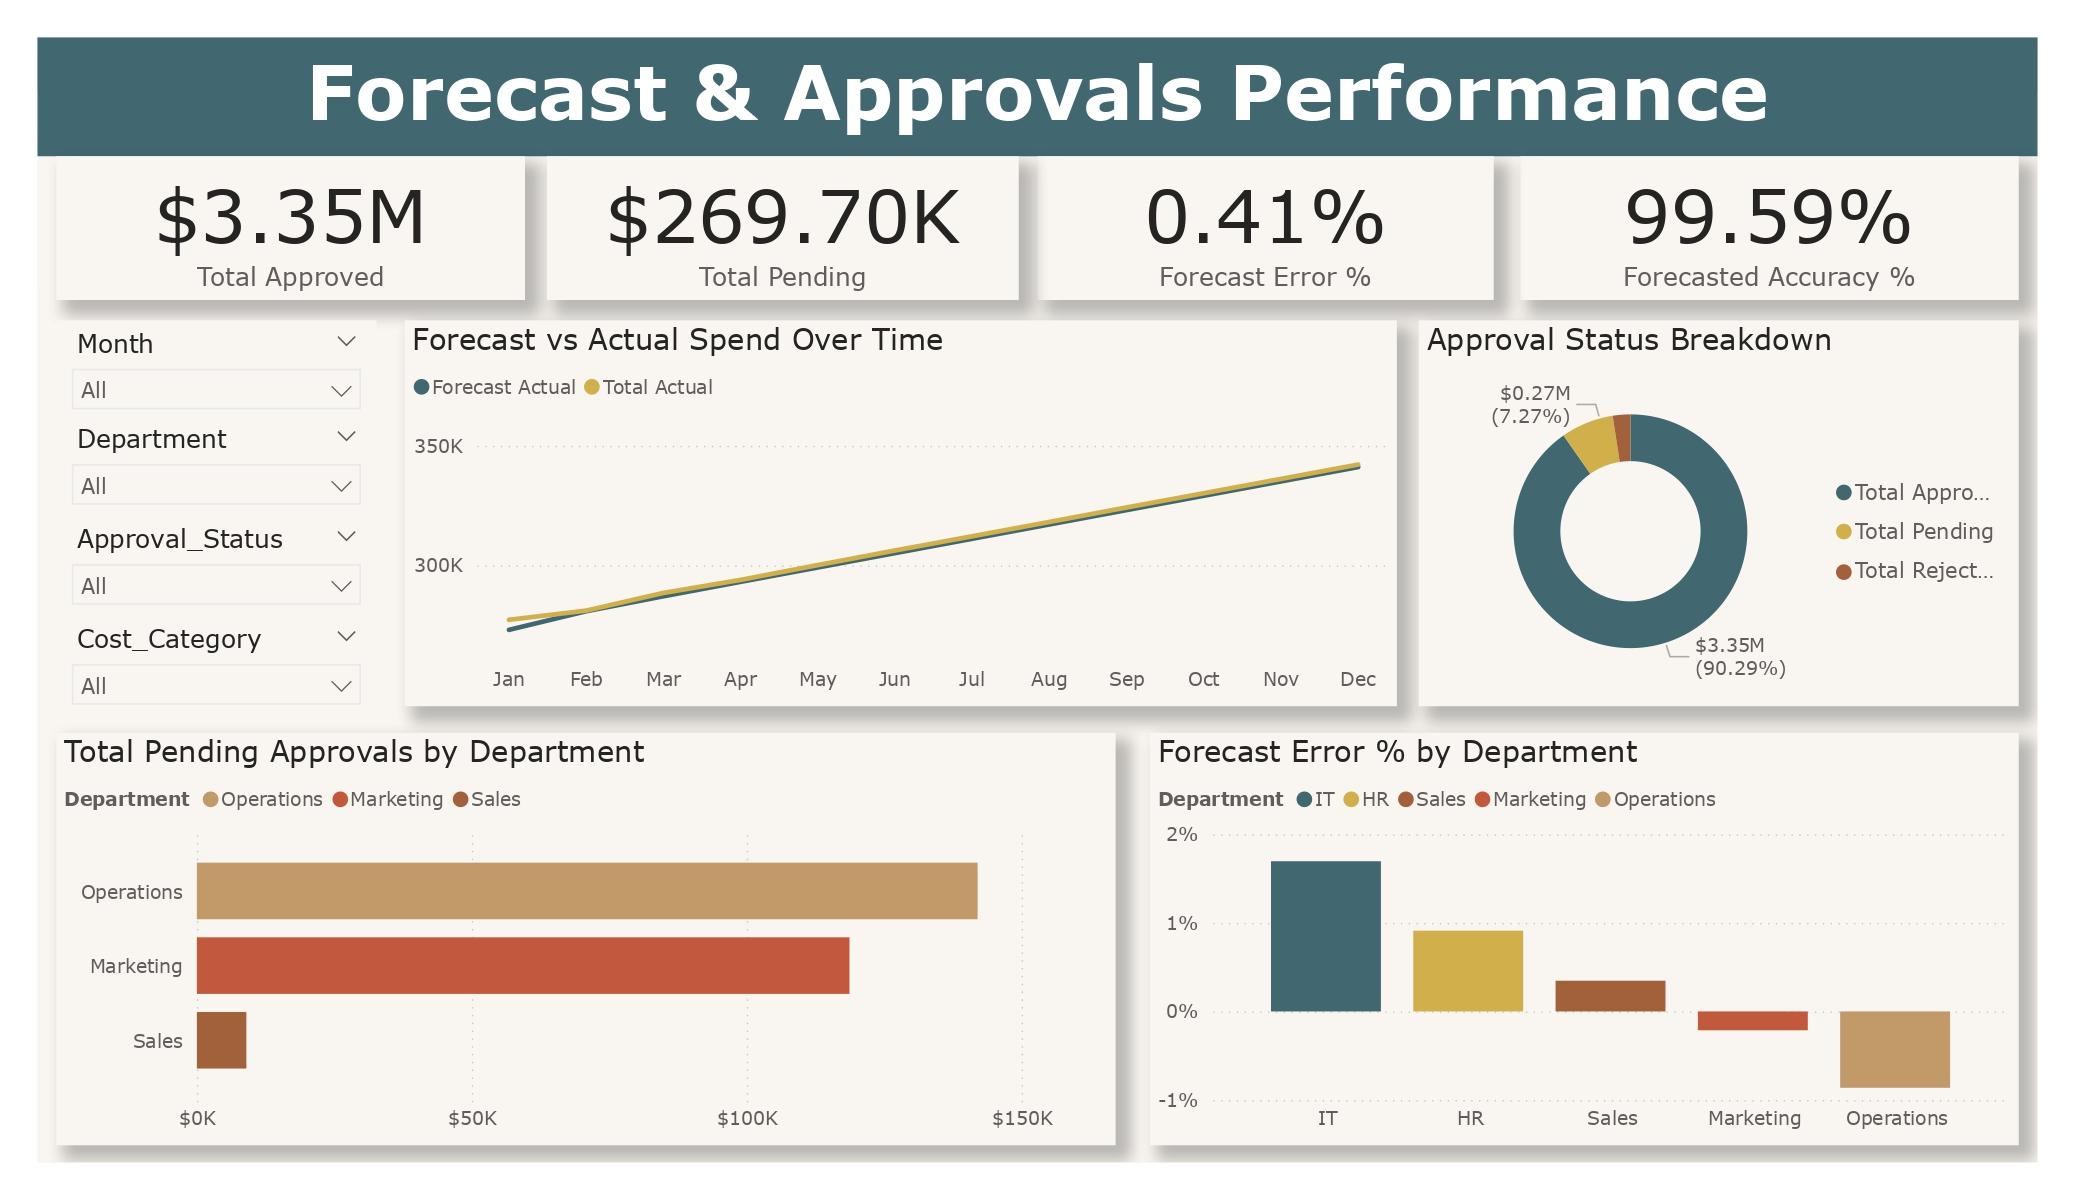

What the dashboard file says about the page in this screenshot:
{"tool":"powerbi","page":{"name":"Page 2","canvas":[1280,720],"ordinal":1},"visuals":[{"type":"textbox","box":[0,0,1280,75.6],"z":0},{"type":"card","fields":{"Values":["Fact_Expenses.Forecasted Accuracy %"]},"box":[949.1,75.6,319.2,92.4],"z":1000},{"type":"card","fields":{"Values":["Fact_Expenses.Forecast Error %"]},"box":[640,75.6,292.3,92.4],"z":2000},{"type":"card","fields":{"Values":["Fact_Expenses.Total Approved"]},"box":[11.8,75.6,300.7,92.4],"z":3000},{"type":"card","fields":{"Values":["Fact_Expenses.Total Pending"]},"box":[325.9,75.6,302.4,92.4],"z":4000},{"type":"lineChart","title":"Forecast vs Actual Spend Over Time ","fields":{"Y":["Fact_Expenses.Forecast Actual","Fact_Expenses.Total Actual"],"Category":["Dim_Date.Month"]},"box":[235.2,181.4,635,246.9],"z":5000},{"type":"donutChart","title":"Approval Status Breakdown","fields":{"Y":["Fact_Expenses.Total Approved","Fact_Expenses.Total Pending","Fact_Expenses.Total Rejected"]},"box":[883.6,181.4,384.7,246.9],"z":6000},{"type":"barChart","title":"Total Pending Approvals by Department","fields":{"Category":["Dim_Department.Department"],"Y":["Fact_Expenses.Total Pending"],"Series":["Dim_Department.Department"]},"box":[11.8,445.1,678.6,263.7],"z":7000},{"type":"columnChart","title":"Forecast Error % by Department","fields":{"Category":["Dim_Department.Department"],"Y":["Fact_Expenses.Forecast Error %"],"Series":["Dim_Department.Department"]},"box":[712.2,445.1,556,263.7],"z":8000},{"type":"slicer","fields":{"Values":["Dim_Date.Month"]},"box":[11.8,181.4,204.9,60.5],"z":9000},{"type":"slicer","fields":{"Values":["Dim_Department.Department"]},"box":[11.8,241.9,204.9,63.8],"z":10000},{"type":"slicer","fields":{"Values":["Dim_Approval_Status.Approval_Status"]},"box":[11.8,305.7,204.9,63.8],"z":11000},{"type":"slicer","fields":{"Values":["Dim_Cost_Category.Cost_Category"]},"box":[11.8,369.6,204.9,58.8],"z":12000}]}

Visuals, with their boxes on the page's 1280x720 design canvas (x1, y1, x2, y2). These are canvas units, not pixel positions in the 2075x1200 screenshot, which may show the page scaled, cropped or inside an application window:
textbox: (x1=0, y1=0, x2=1280, y2=76)
card - Fact_Expenses.Forecasted Accuracy %: (x1=949, y1=76, x2=1268, y2=168)
card - Fact_Expenses.Forecast Error %: (x1=640, y1=76, x2=932, y2=168)
card - Fact_Expenses.Total Approved: (x1=12, y1=76, x2=312, y2=168)
card - Fact_Expenses.Total Pending: (x1=326, y1=76, x2=628, y2=168)
"Forecast vs Actual Spend Over Time " lineChart: (x1=235, y1=181, x2=870, y2=428)
"Approval Status Breakdown" donutChart: (x1=884, y1=181, x2=1268, y2=428)
"Total Pending Approvals by Department" barChart: (x1=12, y1=445, x2=690, y2=709)
"Forecast Error % by Department" columnChart: (x1=712, y1=445, x2=1268, y2=709)
slicer - Dim_Date.Month: (x1=12, y1=181, x2=217, y2=242)
slicer - Dim_Department.Department: (x1=12, y1=242, x2=217, y2=306)
slicer - Dim_Approval_Status.Approval_Status: (x1=12, y1=306, x2=217, y2=370)
slicer - Dim_Cost_Category.Cost_Category: (x1=12, y1=370, x2=217, y2=428)
